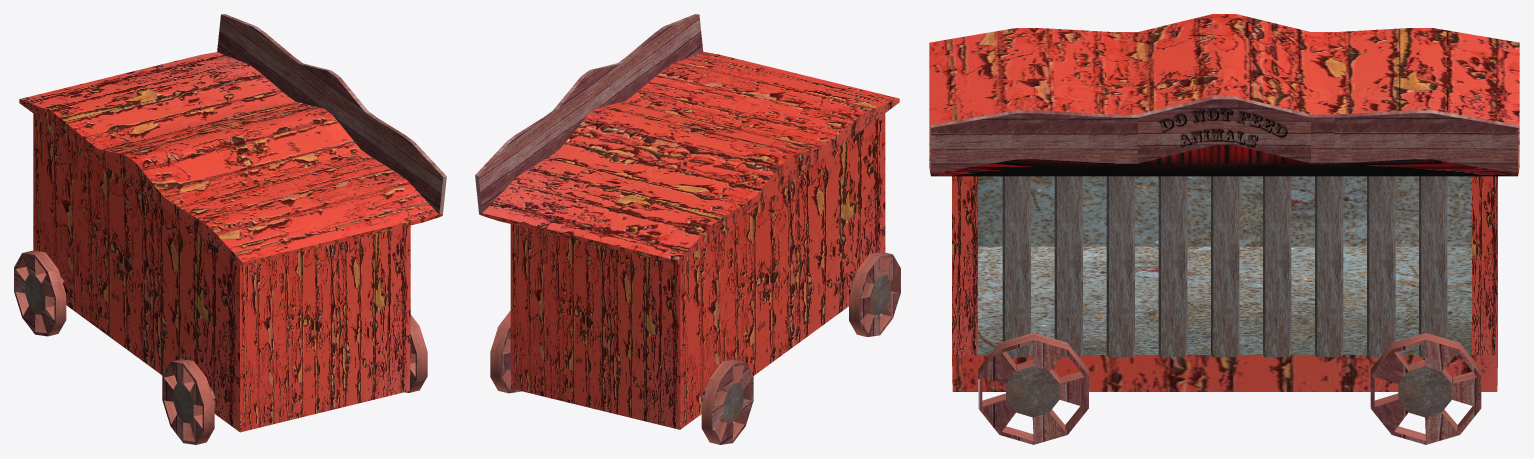
File: AnimalCages Wagon.FBX
The picture shows the model from 3 angles, left to right: view 1: azimuth 30°, elevation 25°; view 2: azimuth 150°, elevation 25°; view 3: azimuth 270°, elevation 25°; orthographic projection. The views are drawn at different scales.
Visible parts, largest first — view 1: Box002, Cylinder001; view 2: Box002, Cylinder001; view 3: Box002, Cylinder001.
Part boxes in pixels (x1=…): Box002: x1=19, y1=14, x2=446, y2=432; Cylinder001: x1=14, y1=250, x2=427, y2=444; Box002: x1=475, y1=14, x2=899, y2=429; Cylinder001: x1=490, y1=252, x2=900, y2=444; Box002: x1=929, y1=14, x2=1519, y2=391; Cylinder001: x1=978, y1=333, x2=1481, y2=444.
Bounding box in the file's own units: 63.83 × 71.09 × 110.
2 materials, 2 textured.
